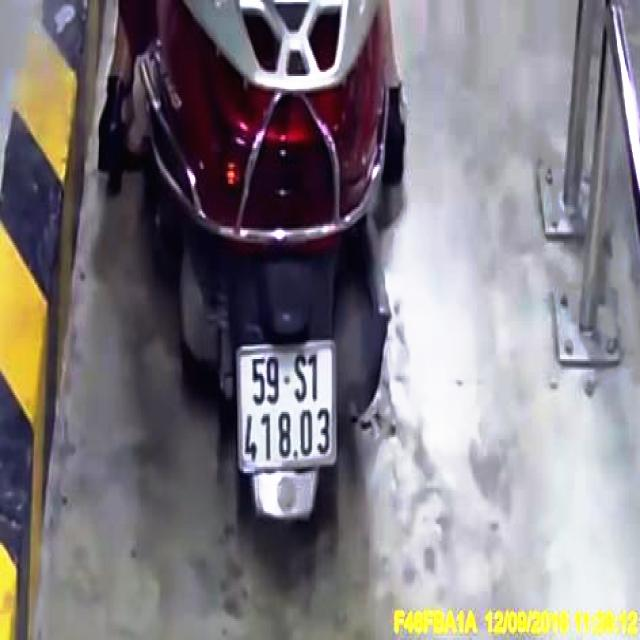license_plate: (238, 343, 338, 471)
